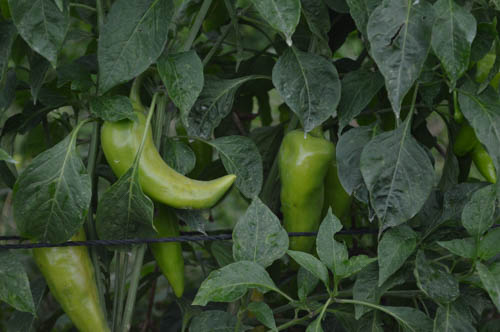ChiliPepper: (96, 107, 241, 214), (272, 126, 334, 273), (33, 230, 112, 332), (128, 202, 196, 302), (324, 140, 355, 245), (471, 143, 500, 182)
